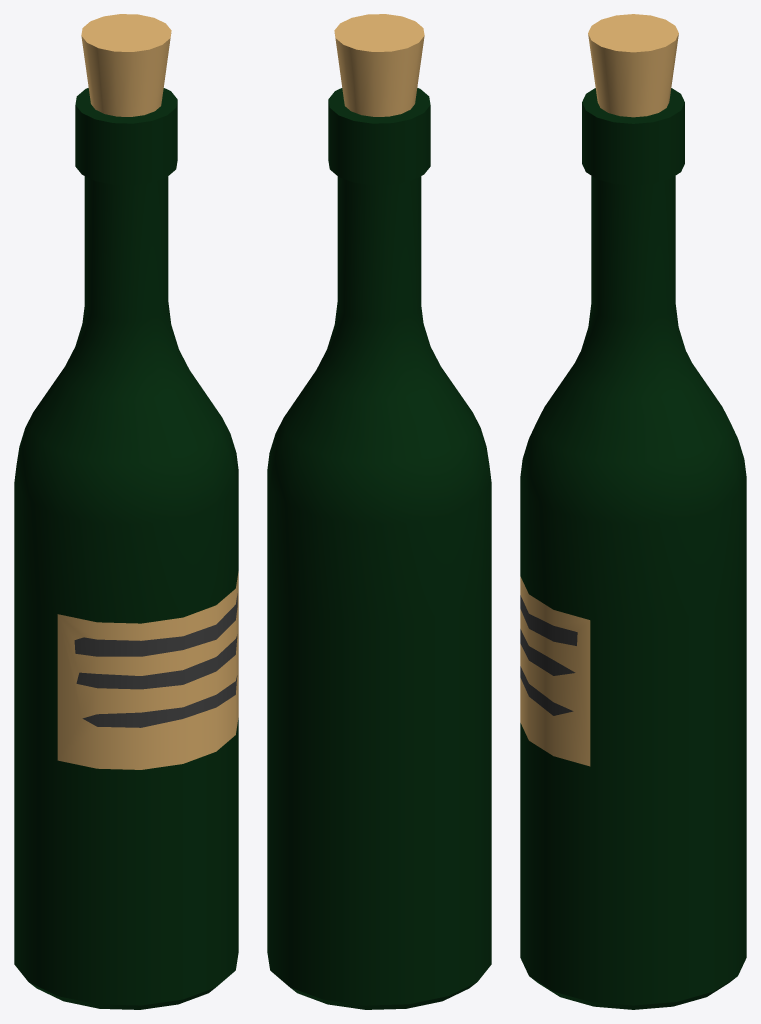
File: RedWine.fbx
The picture shows the model from 3 angles, left to right: view 1: azimuth 30°, elevation 25°; view 2: azimuth 150°, elevation 25°; view 3: azimuth 270°, elevation 25°; orthographic projection.
Visible parts, largest first — view 1: Red Wine; view 2: Red Wine; view 3: Red Wine.
Part boxes in pixels (x1=…): Red Wine: x1=14, y1=14, x2=238, y2=1009; Red Wine: x1=267, y1=14, x2=491, y2=1009; Red Wine: x1=520, y1=14, x2=746, y2=1009.
Size of the model in its own units: 7.34 by 33.4 by 7.34.
